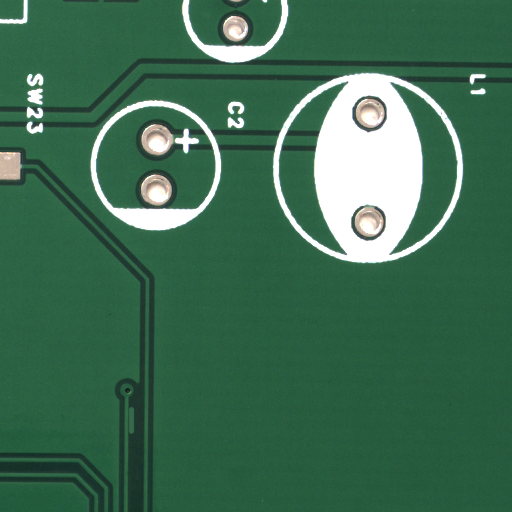Spurious_copper: (132, 419, 140, 449)
